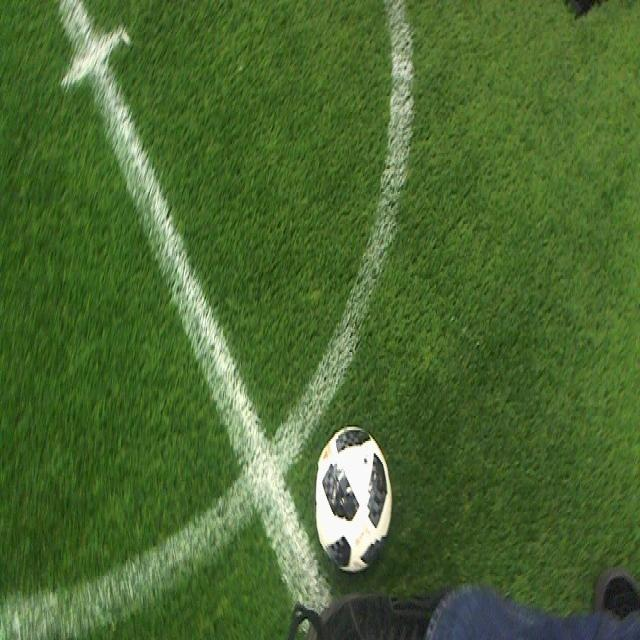ball: (314, 425, 394, 576)
